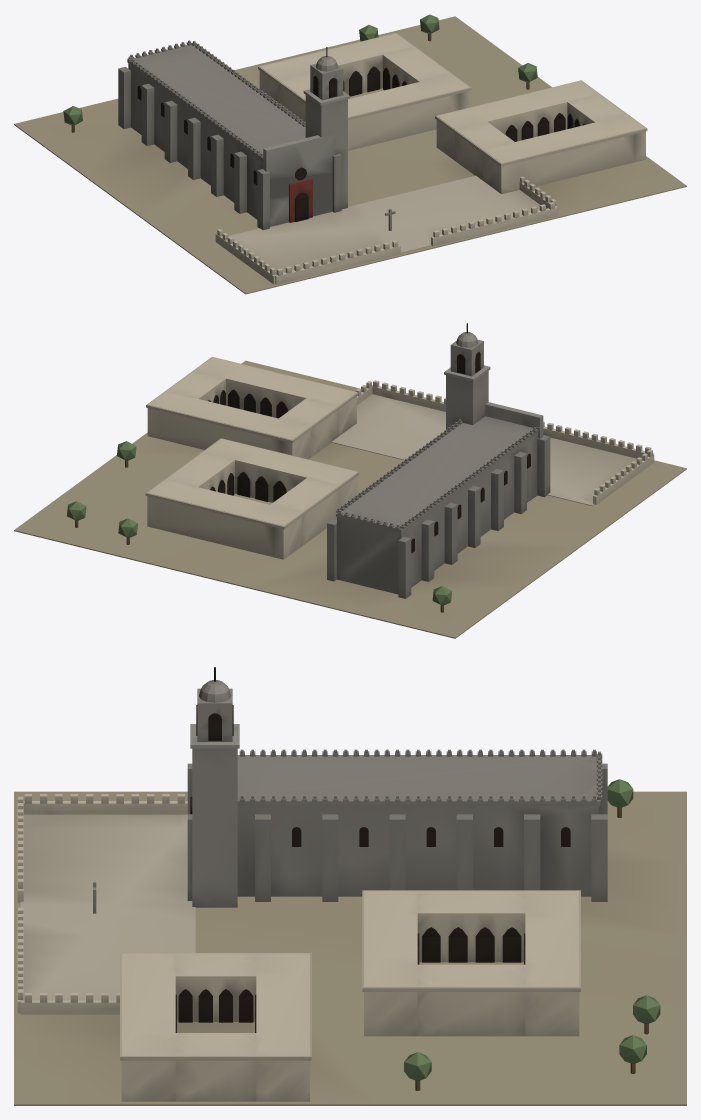
File: santa-cruz-tlatelolco.glb
3 views of the same model, one above another, from view 1: azimuth 30°, elevation 25°; view 2: azimuth 150°, elevation 25°; view 3: azimuth 270°, elevation 25° (orthographic). The views are drawn at different scales.
Visible parts, largest first — view 1: p2_colegio, p0_ground, p1_atrium; view 2: p2_colegio, p0_ground, p1_atrium; view 3: p2_colegio, p0_ground, p1_atrium.
Part boxes in pixels (x1,y1,x2,y2): p2_colegio: [63, 14, 647, 230]; p0_ground: [14, 16, 686, 294]; p1_atrium: [215, 176, 557, 284]; p2_colegio: [67, 323, 550, 612]; p0_ground: [14, 360, 686, 638]; p1_atrium: [355, 380, 654, 504]; p2_colegio: [120, 667, 660, 1101]; p0_ground: [14, 791, 686, 1105]; p1_atrium: [17, 794, 187, 1014].
Bounding box in the file's own units: 110 × 38.08 × 100.
